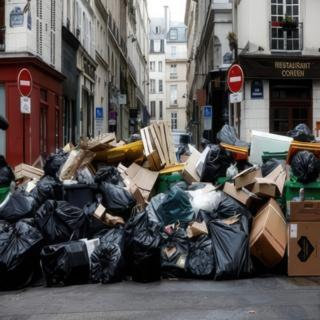Garbage: (201, 212, 254, 281), (121, 209, 162, 282), (0, 220, 39, 291), (39, 239, 90, 286), (34, 196, 85, 240), (88, 240, 126, 284), (200, 142, 228, 183), (288, 149, 319, 183)
